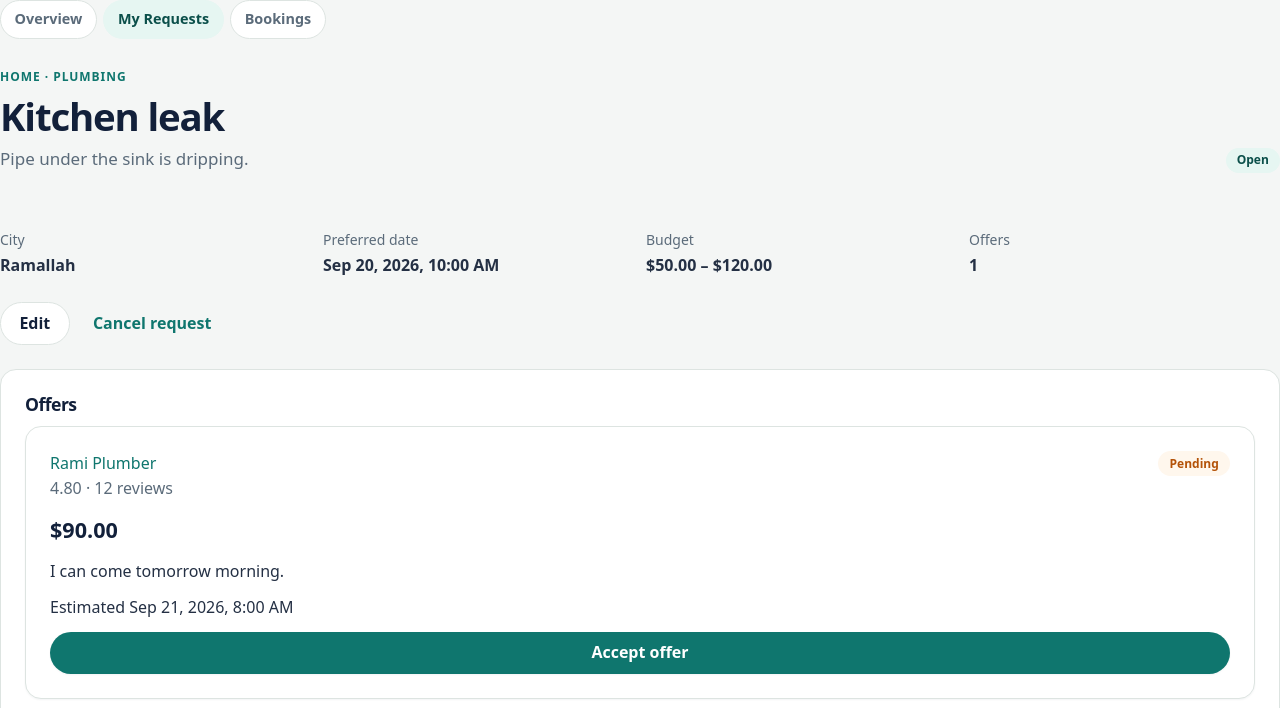
Test: CustomerRequestDetailPage › shows the server 409 message and reloads offers
Click the button "Accept offer": {"x": 640, "y": 653} [50,632,1230,674]
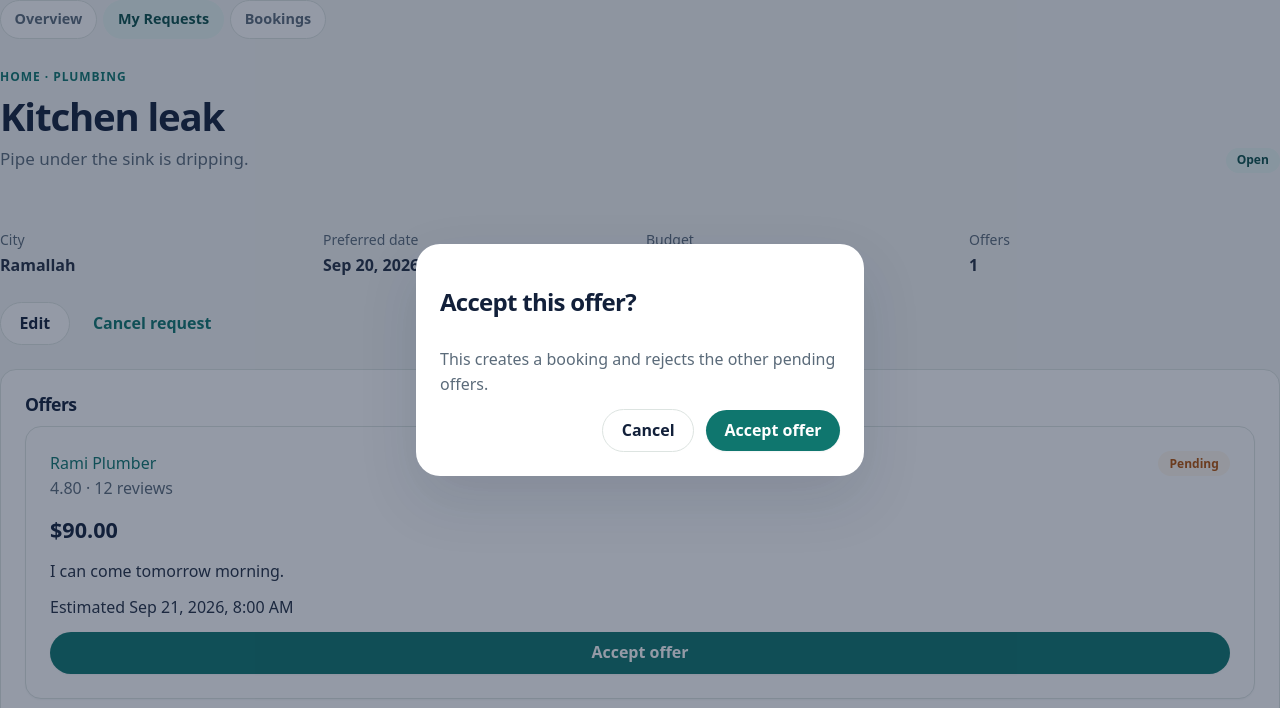
Click the button "Accept offer": {"x": 773, "y": 430} [706,410,840,451]
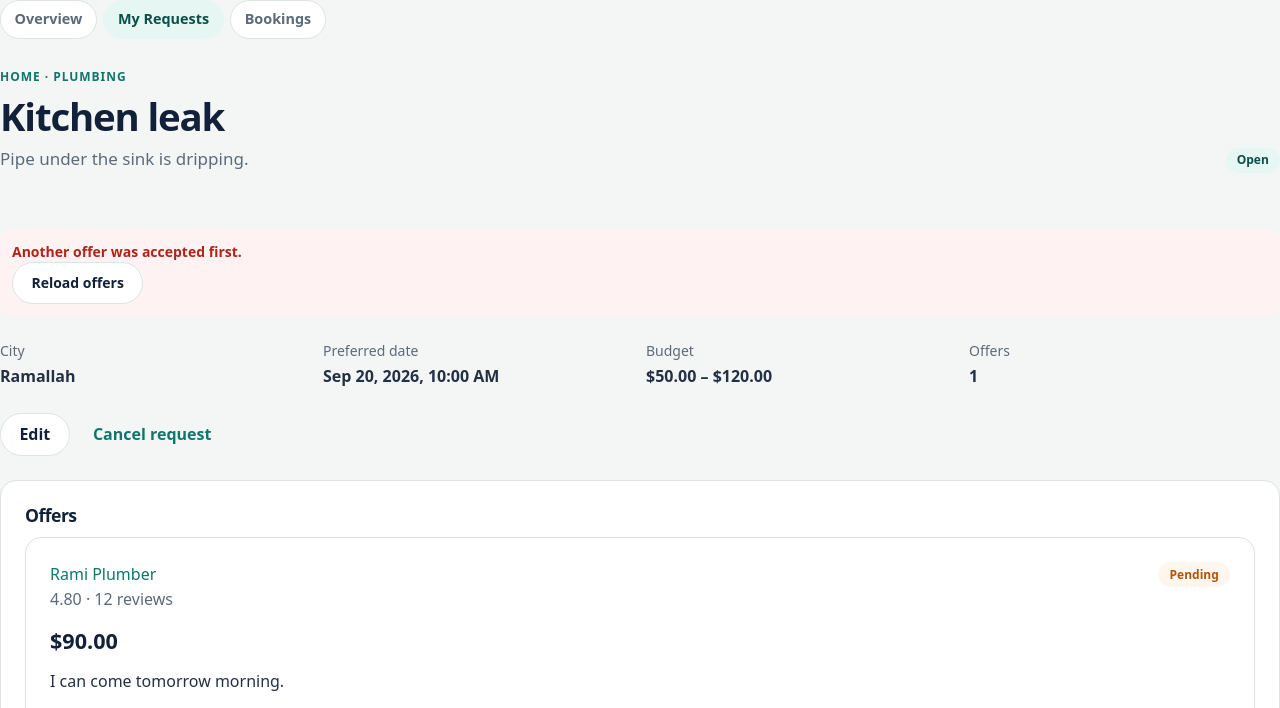
Expected: the message shows "Another offer was accepted first.", [12,242,242,261]
Expected: the button "Reload offers" is shown
Click the button "Reload offers": {"x": 78, "y": 283} [12,262,143,304]
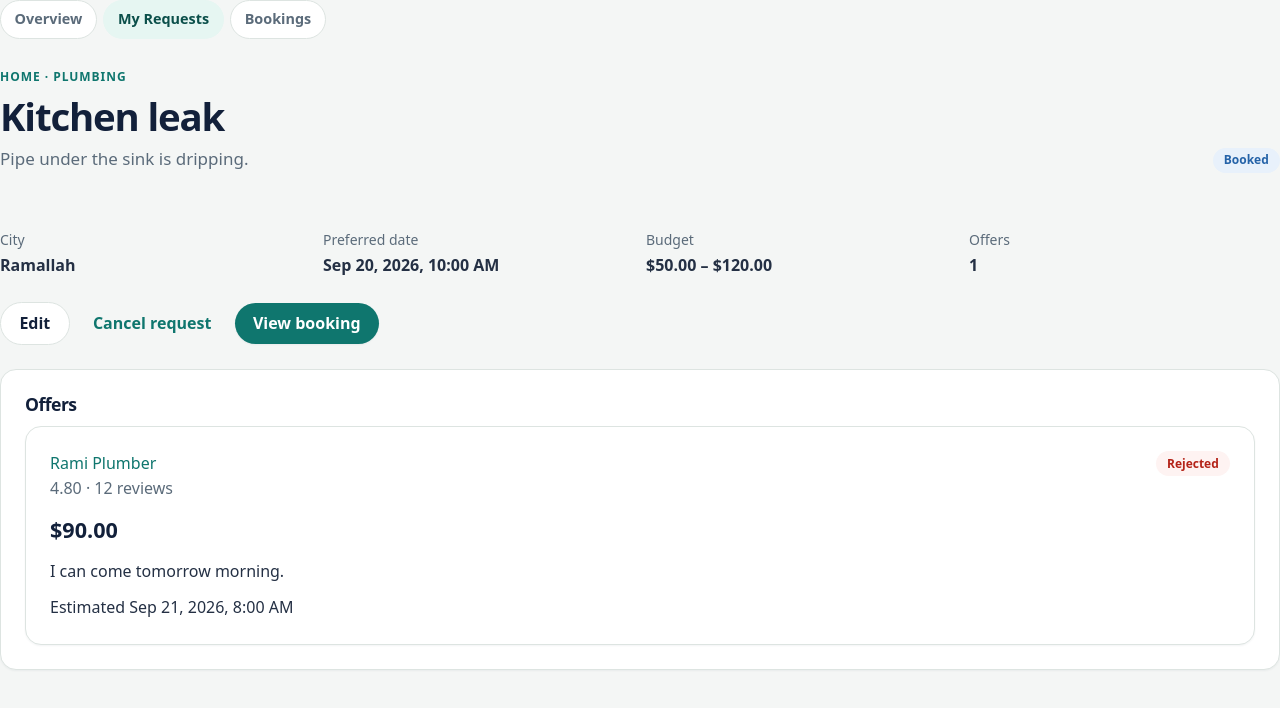
Expected: the link "View booking" is shown, [235,303,379,344]
